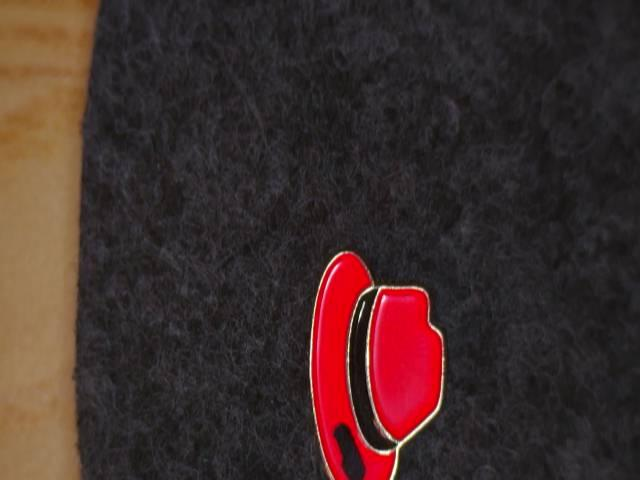Red-Hat: (287, 236, 464, 480)
Scratch: (326, 413, 375, 480)
